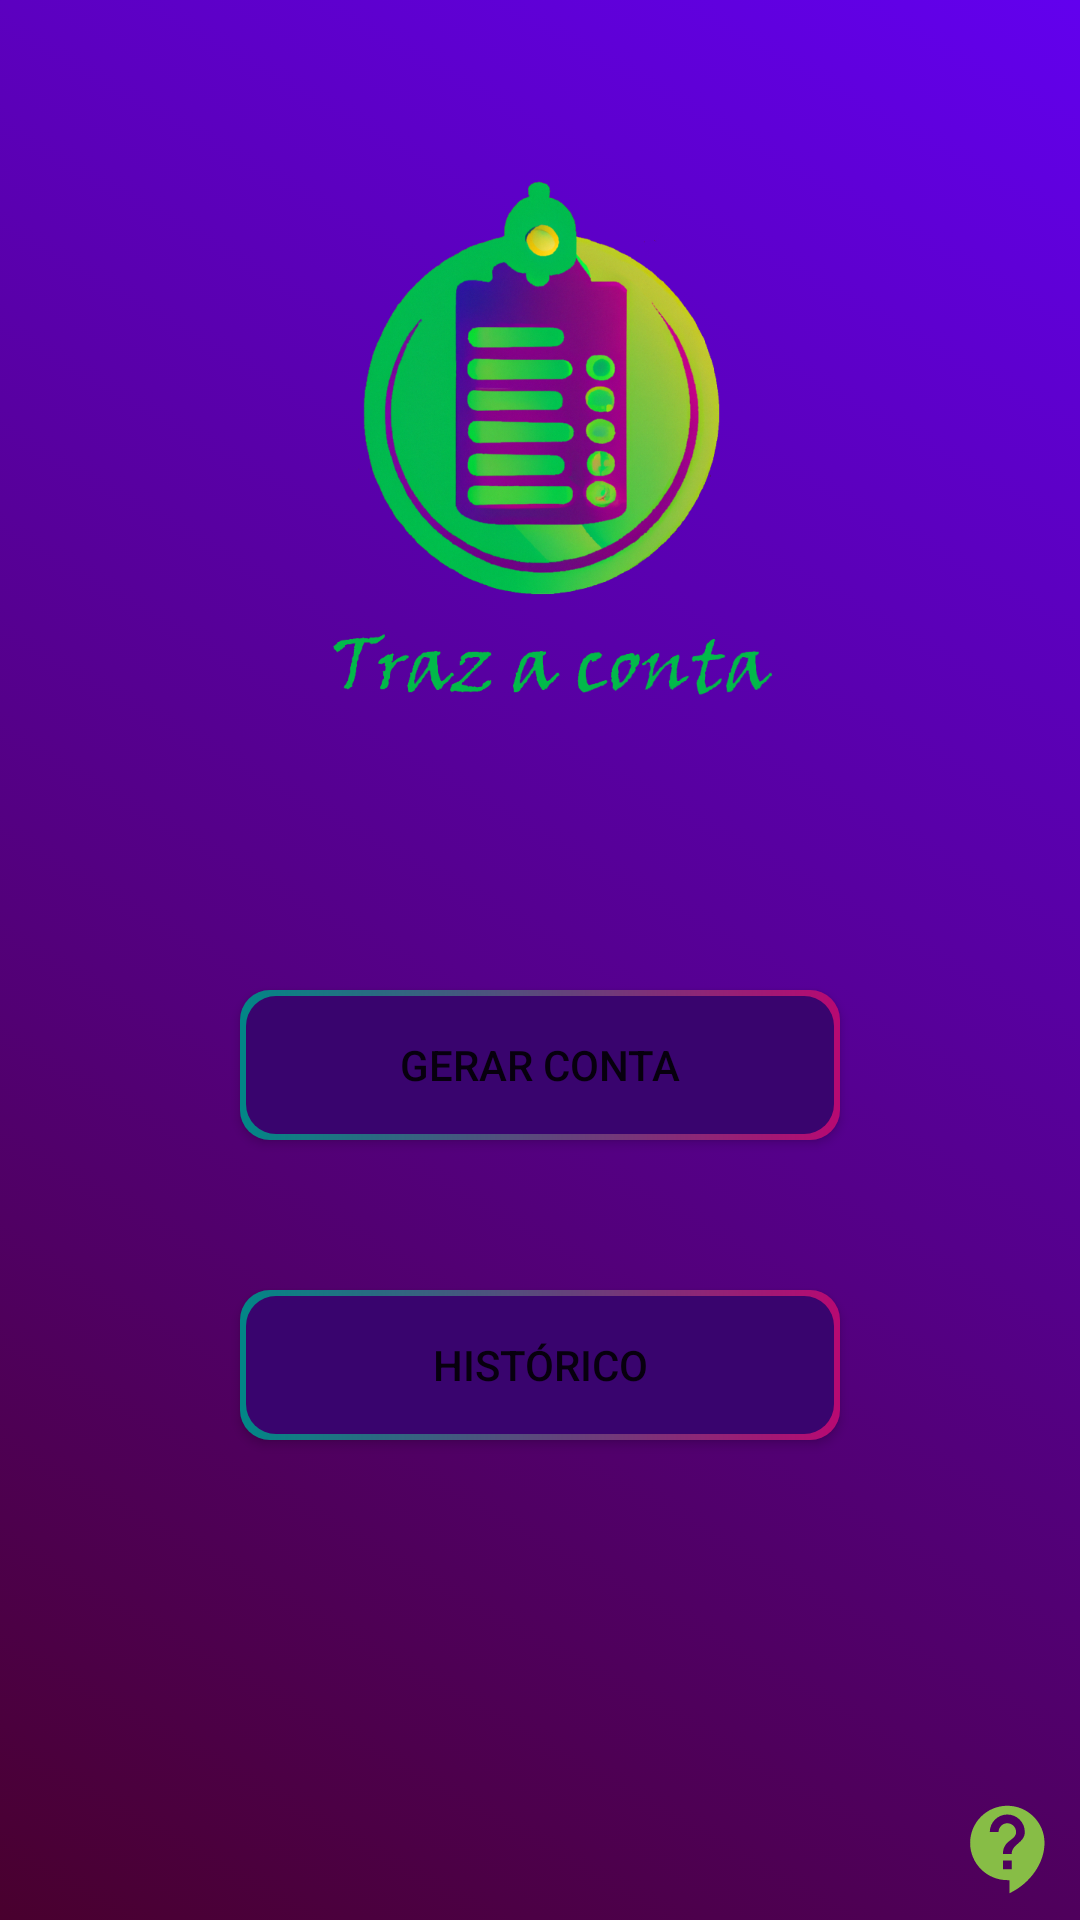

Named icons in this screenshot (1080 × 1920) and their bounding boxes, detection(x1, y1, x2, y2):
contact support: detection(970, 1805, 1045, 1893)
